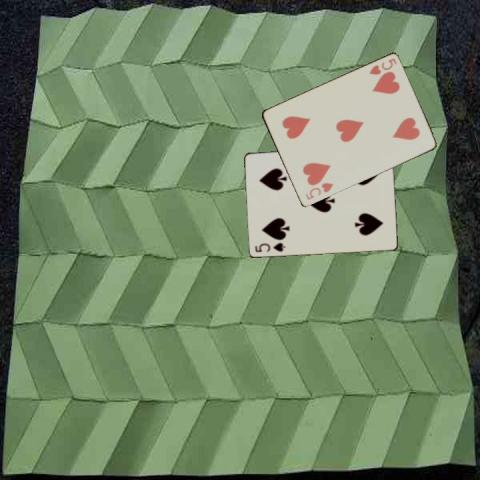5h: (366, 55, 398, 77), (302, 180, 335, 201)
5s: (252, 240, 287, 253)
